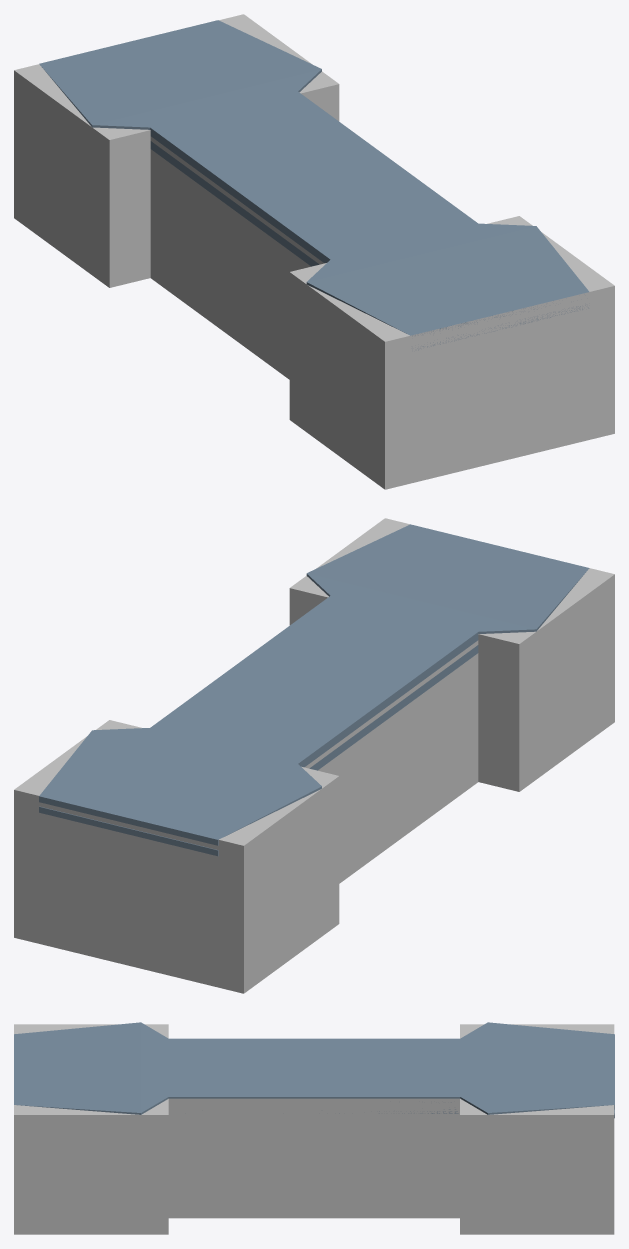
File: SM_Table_07.fbx
The picture shows the model from 3 angles, top to bottom: view 1: azimuth 30°, elevation 25°; view 2: azimuth 150°, elevation 25°; view 3: azimuth 270°, elevation 25°; orthographic projection. The views are drawn at different scales.
Visible parts, largest first — view 1: SM_Table_07_ConvexHulls, SM_Table_07; view 2: SM_Table_07_ConvexHulls, SM_Table_07; view 3: SM_Table_07_ConvexHulls, SM_Table_07.
Boxes of the visible parts, bbox=[...] form: SM_Table_07_ConvexHulls: bbox=[14, 14, 614, 489]; SM_Table_07: bbox=[39, 20, 589, 350]; SM_Table_07_ConvexHulls: bbox=[14, 518, 614, 993]; SM_Table_07: bbox=[39, 524, 589, 856]; SM_Table_07_ConvexHulls: bbox=[14, 1024, 614, 1234]; SM_Table_07: bbox=[14, 1022, 614, 1118].
Bounding box in the file's own units: 136 × 381 × 85.09.
2 materials, 1 textured.
